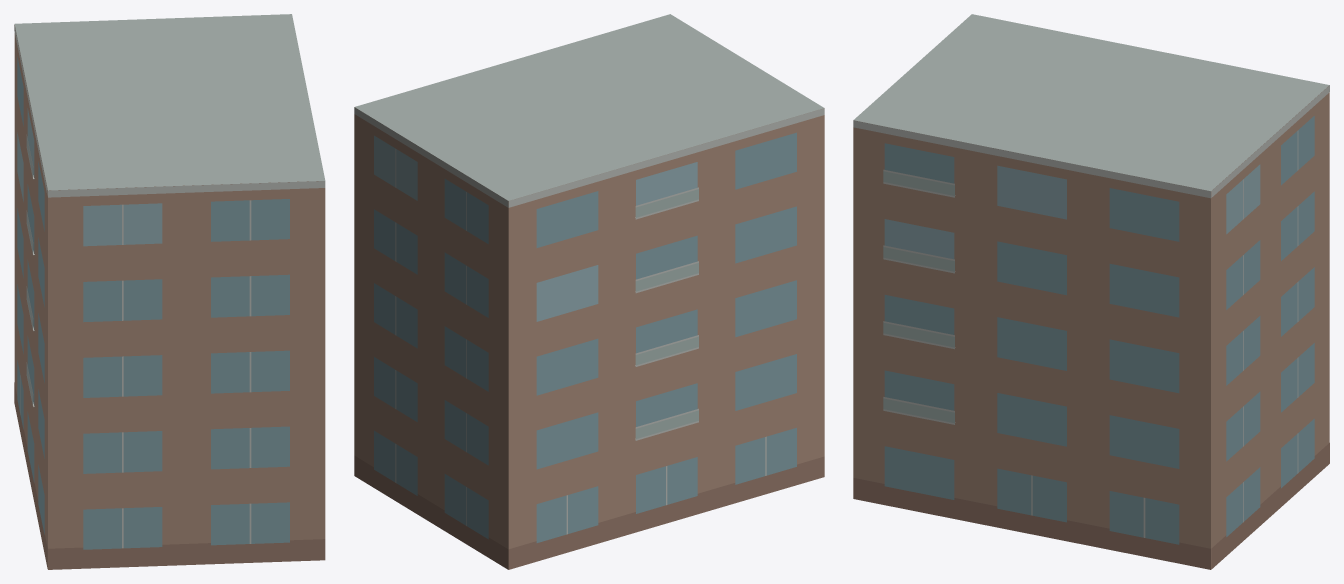
File: survey-upis-32632948.glb
3 renders of one model, left to right at view 1: azimuth 30°, elevation 25°; view 2: azimuth 150°, elevation 25°; view 3: azimuth 270°, elevation 25°, orthographic. The views are drawn at different scales.
Parts seen in each view (by area): view 1: survey-upis-32632948.tmp; view 2: survey-upis-32632948.tmp; view 3: survey-upis-32632948.tmp.
Boxes of the visible parts, x1,y1,x2,y2 form: survey-upis-32632948.tmp: [14, 14, 325, 569]; survey-upis-32632948.tmp: [354, 14, 824, 569]; survey-upis-32632948.tmp: [853, 14, 1329, 569].
Size of the model in its own units: 13.06 by 13 by 14.83.
